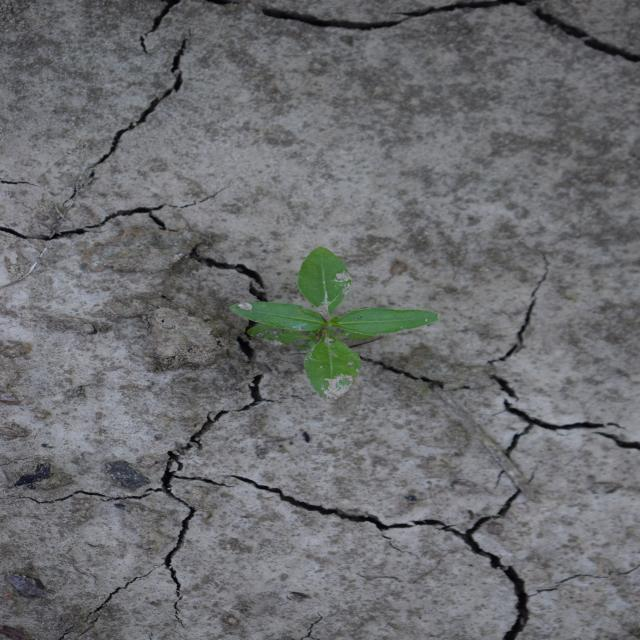Eclipta: (228, 246, 444, 402)
